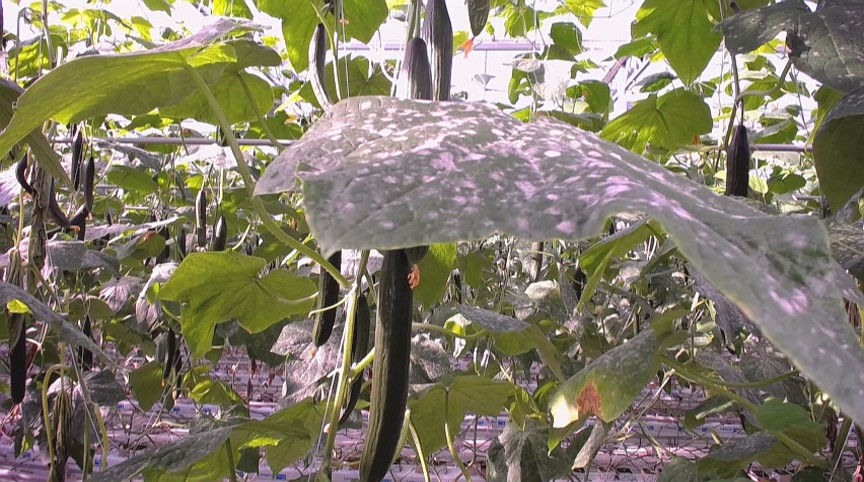cucumber: (359, 252, 412, 482), (338, 297, 370, 425), (313, 251, 344, 349), (423, 1, 453, 101), (396, 37, 437, 102), (310, 23, 335, 113), (726, 126, 751, 197), (11, 319, 27, 405), (194, 190, 208, 246), (212, 217, 229, 252), (85, 159, 95, 214)
